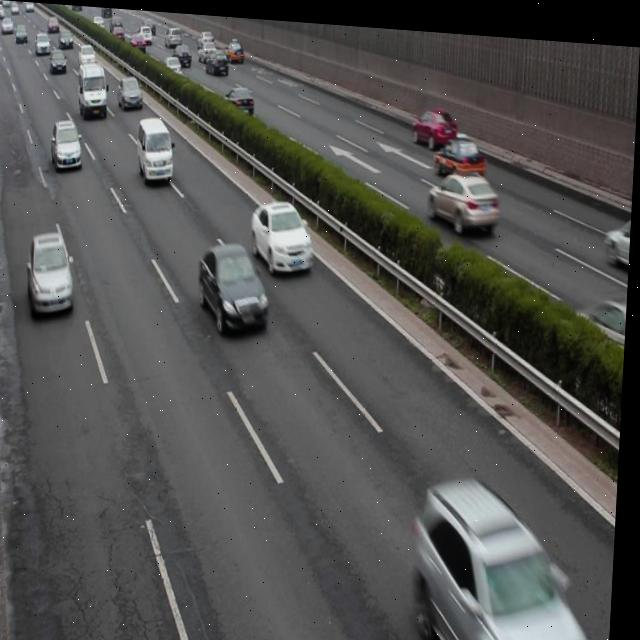car: (415, 470, 585, 640), (198, 235, 274, 332), (251, 192, 318, 272), (425, 157, 501, 227), (29, 226, 79, 322), (578, 288, 630, 359), (433, 126, 487, 172), (411, 99, 457, 143), (51, 116, 85, 172), (605, 200, 633, 258), (224, 82, 255, 118)
truck: (137, 113, 177, 183)
